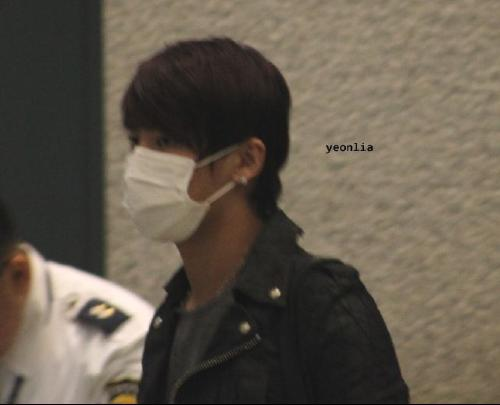OK: (118, 114, 234, 240)
